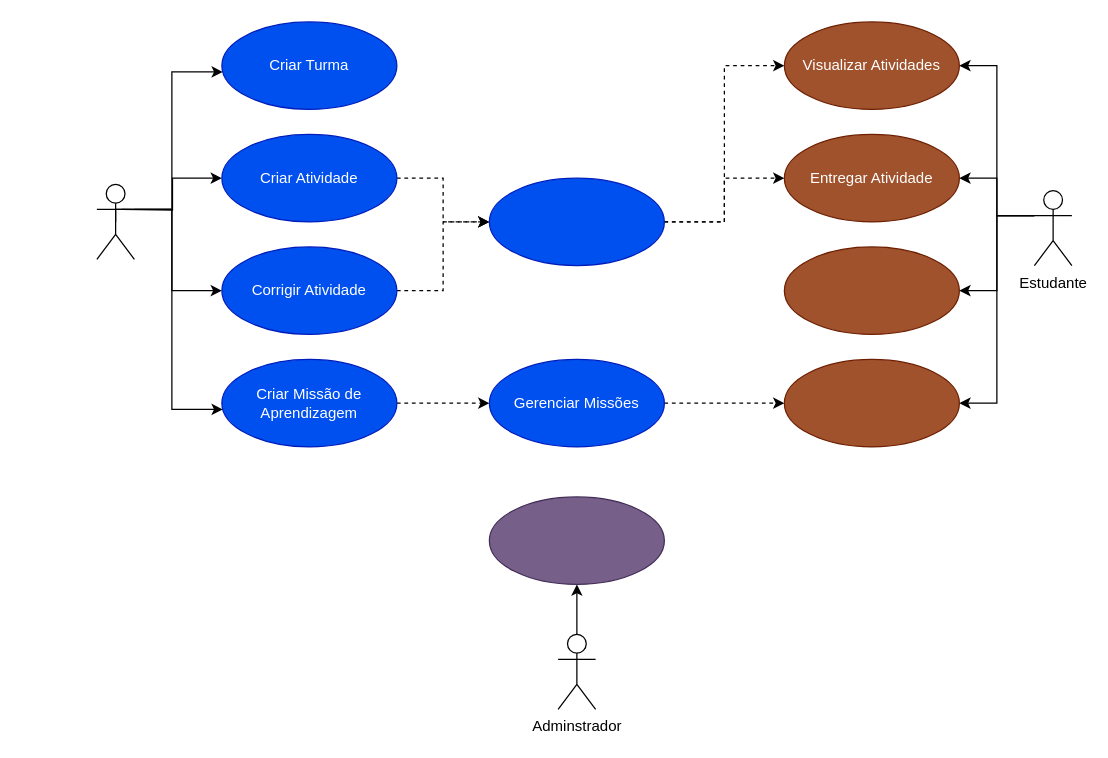
The diagram is 1108 pixels wide and 758 high, and some of its shapes have lost their labels. The box of each missing label's shape, as (x1, y1, x2, y2) in pixels:
Acompanhar Progresso da Missão: (783, 358, 959, 447)
Gerenciar Atividades: (488, 177, 664, 266)
Gerenciar Usuários: (488, 496, 664, 584)
Professor: (96, 183, 134, 259)
Visualizar Feedback e Nota: (783, 246, 959, 334)
